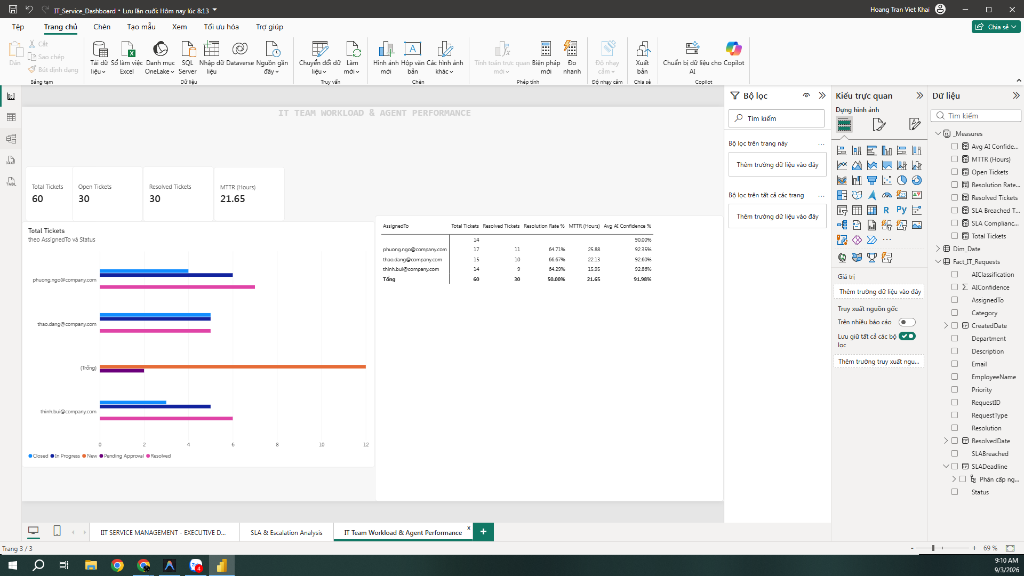

The dashboard page shown, as its layout file describes it:
{"tool":"powerbi","page":{"name":"IT Team Workload & Agent Performance","canvas":[1920,1080],"ordinal":2},"visuals":[{"type":"textbox","box":[10.2,0,1909.8,48.1],"z":0},{"type":"cardVisual","fields":{"Data":["_Measures.Total Tickets"]},"box":[10.2,163.4,194,150.3],"z":1},{"type":"cardVisual","fields":{"Data":["_Measures.Open Tickets"]},"box":[137.1,163.4,194,150.3],"z":2},{"type":"cardVisual","fields":{"Data":["_Measures.Resolved Tickets"]},"box":[331.2,163.4,194,150.3],"z":3},{"type":"cardVisual","fields":{"Data":["_Measures.MTTR (Hours)"]},"box":[525.2,164.9,194,148.8],"z":4},{"type":"clusteredBarChart","fields":{"Category":["Fact_IT_Requests.AssignedTo"],"Series":["Fact_IT_Requests.Status"],"Y":["_Measures.Total Tickets"]},"box":[0,313.7,965.8,672.6],"z":5},{"type":"pivotTable","fields":{"Rows":["Fact_IT_Requests.AssignedTo"],"Values":["_Measures.Total Tickets","_Measures.Resolved Tickets","_Measures.Resolution Rate %","_Measures.MTTR (Hours)","_Measures.Avg AI Confidence %"]},"box":[965.8,297.6,954.2,782],"z":6}]}

Visuals, with their boxes on the page's 1920x1080 design canvas (x1, y1, x2, y2). These are canvas units, not pixel positions in the 1024x576 screenshot, which may show the page scaled, cropped or inside an application window:
textbox: 10, 0, 1920, 48
cardVisual - _Measures.Total Tickets: 10, 163, 204, 314
cardVisual - _Measures.Open Tickets: 137, 163, 331, 314
cardVisual - _Measures.Resolved Tickets: 331, 163, 525, 314
cardVisual - _Measures.MTTR (Hours): 525, 165, 719, 314
clusteredBarChart - Fact_IT_Requests.AssignedTo x Fact_IT_Requests.Status: 0, 314, 966, 986
pivotTable - Fact_IT_Requests.AssignedTo x _Measures.Total Tickets: 966, 298, 1920, 1080
